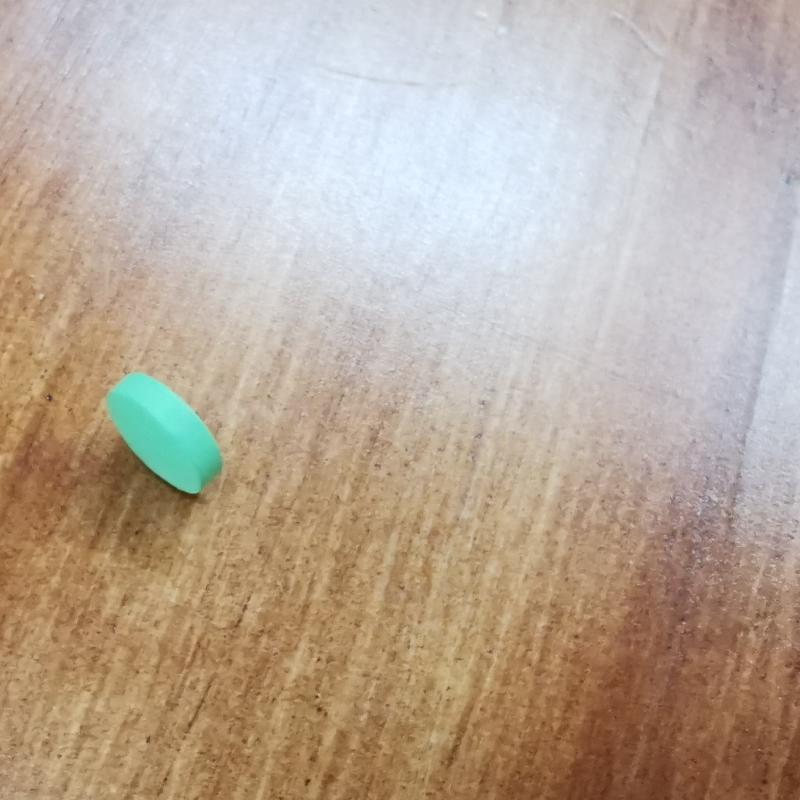pills: (97, 354, 252, 526)
